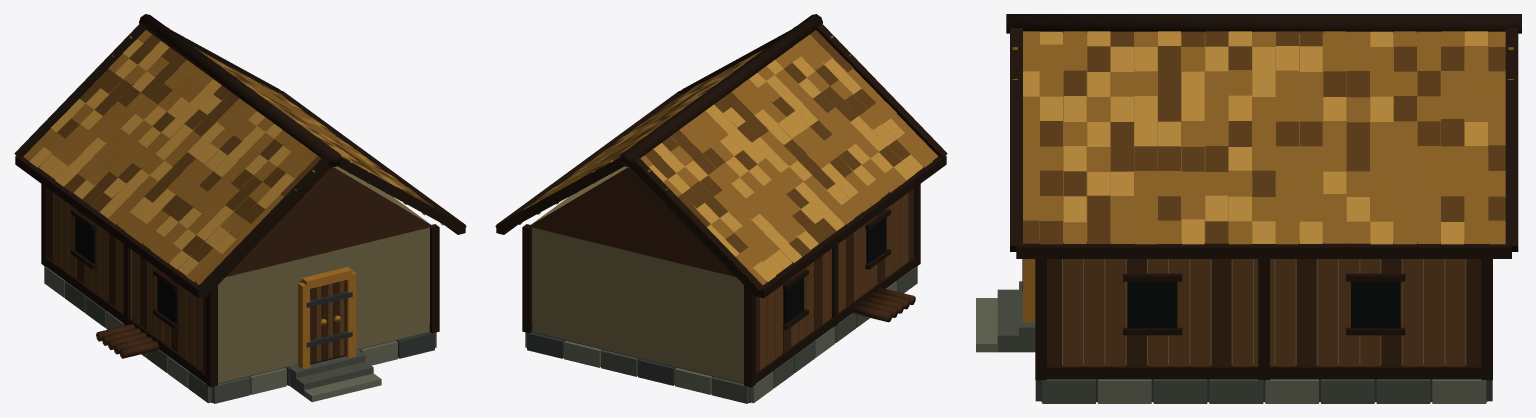
Rendered from CottageA.fbx.
The picture shows the model from 3 angles, left to right: view 1: azimuth 30°, elevation 25°; view 2: azimuth 150°, elevation 25°; view 3: azimuth 270°, elevation 25°; orthographic projection. The views are drawn at different scales.
Parts seen in each view (by area): view 1: CottageA_LOD0; view 2: CottageA_LOD0; view 3: CottageA_LOD0.
Part boxes in pixels (left/top/right/bottom): CottageA_LOD0: left=14, top=14, right=466, bottom=403; CottageA_LOD0: left=495, top=14, right=947, bottom=403; CottageA_LOD0: left=976, top=14, right=1521, bottom=403.
Size of what is drawn, in the model's own units: 9.12 by 7.01 by 11.01.
